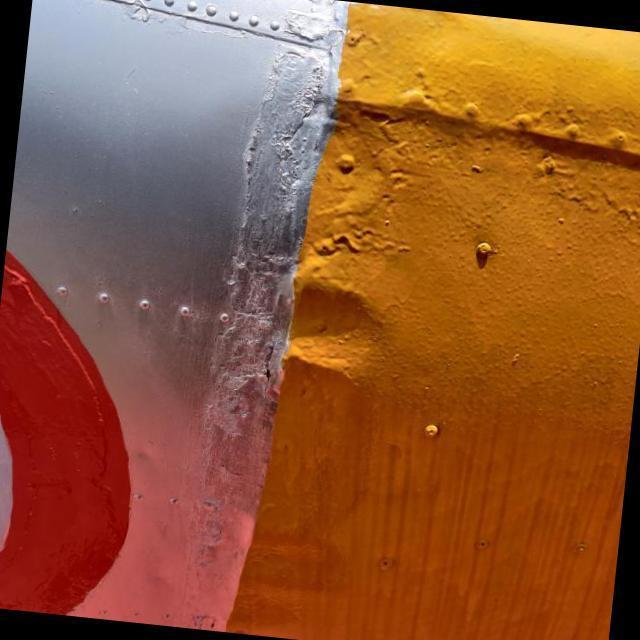Dent: (252, 237, 418, 412)
